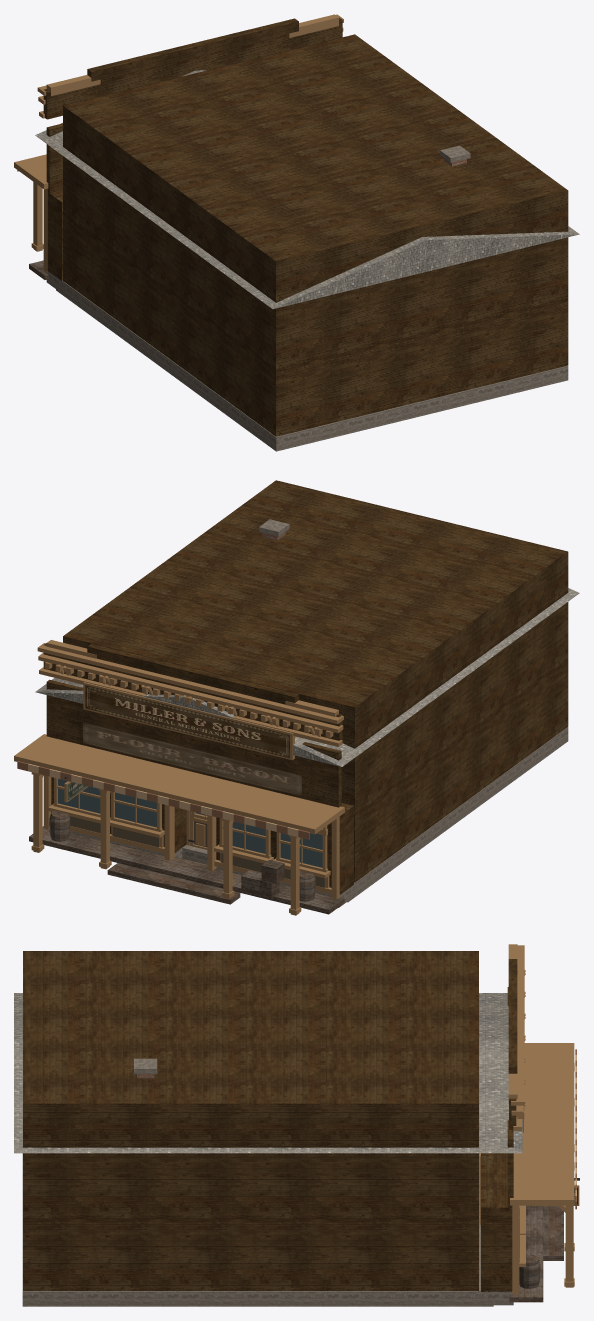
Rendered from miller_mercantile.glb.
3 renders of one model, top to bottom at view 1: azimuth 30°, elevation 25°; view 2: azimuth 150°, elevation 25°; view 3: azimuth 270°, elevation 25°, orthographic. The views are drawn at different scales.
Visible parts, largest first — view 1: Photographic pine | grade and eave AO, Split slate, Rubble foundation, Trim miller_mercantile; view 2: Photographic pine | grade and eave AO, Trim miller_mercantile, Photographic pine, Print_miller, Rubble foundation, Print_miller_ghost, Split slate, Cold cylinder glass, Door miller_mercantile, Ochre painted canvas, Faded canvas, Oak staves; view 3: Photographic pine | grade and eave AO, Trim miller_mercantile, Split slate, Rubble foundation, Photographic pine, Oak staves.
Boxes of the visible parts, <box> form: Photographic pine | grade and eave AO: <box>43,17,568,436</box>; Split slate: <box>35,70,579,309</box>; Rubble foundation: <box>46,145,568,451</box>; Trim miller_mercantile: <box>14,14,343,272</box>; Photographic pine | grade and eave AO: <box>43,480,568,894</box>; Trim miller_mercantile: <box>14,640,344,915</box>; Photographic pine: <box>29,826,344,914</box>; Print_miller: <box>85,685,289,758</box>; Rubble foundation: <box>70,519,568,907</box>; Print_miller_ghost: <box>83,722,301,796</box>; Split slate: <box>35,588,579,766</box>; Cold cylinder glass: <box>58,778,322,867</box>; Door miller_mercantile: <box>69,816,325,887</box>; Ochre painted canvas: <box>17,761,309,839</box>; Faded canvas: <box>28,764,298,836</box>; Oak staves: <box>49,810,315,901</box>; Photographic pine | grade and eave AO: <box>23,951,517,1291</box>; Trim miller_mercantile: <box>479,944,579,1294</box>; Split slate: <box>14,993,522,1153</box>; Rubble foundation: <box>22,1058,513,1306</box>; Photographic pine: <box>509,1205,563,1302</box>; Oak staves: <box>519,1254,540,1288</box>.
Size of the model in its own units: 10.52 by 6.64 by 15.69.
Materials: 17 (8 with a texture image).
